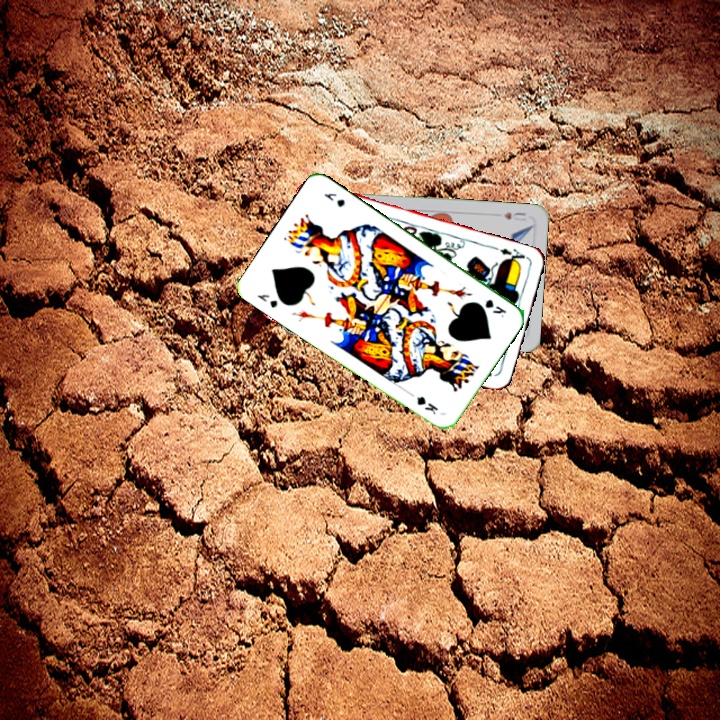EA: (496, 244, 531, 267)
GK: (481, 295, 509, 320), (253, 290, 280, 311)
HU: (500, 208, 529, 223)
